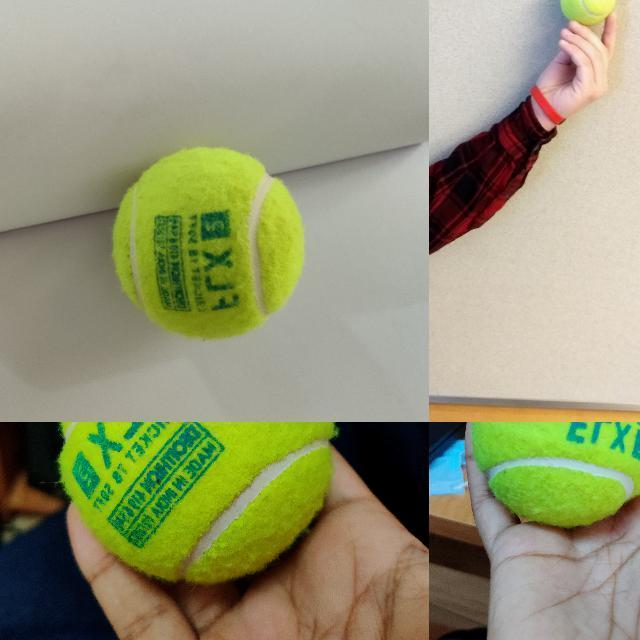Tennis Ball: (58, 422, 337, 584), (111, 146, 307, 341), (472, 422, 640, 527), (558, 0, 617, 25)
